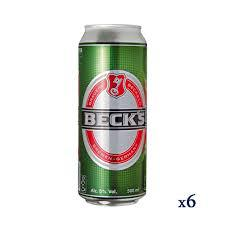beer: (78, 23, 148, 204)
